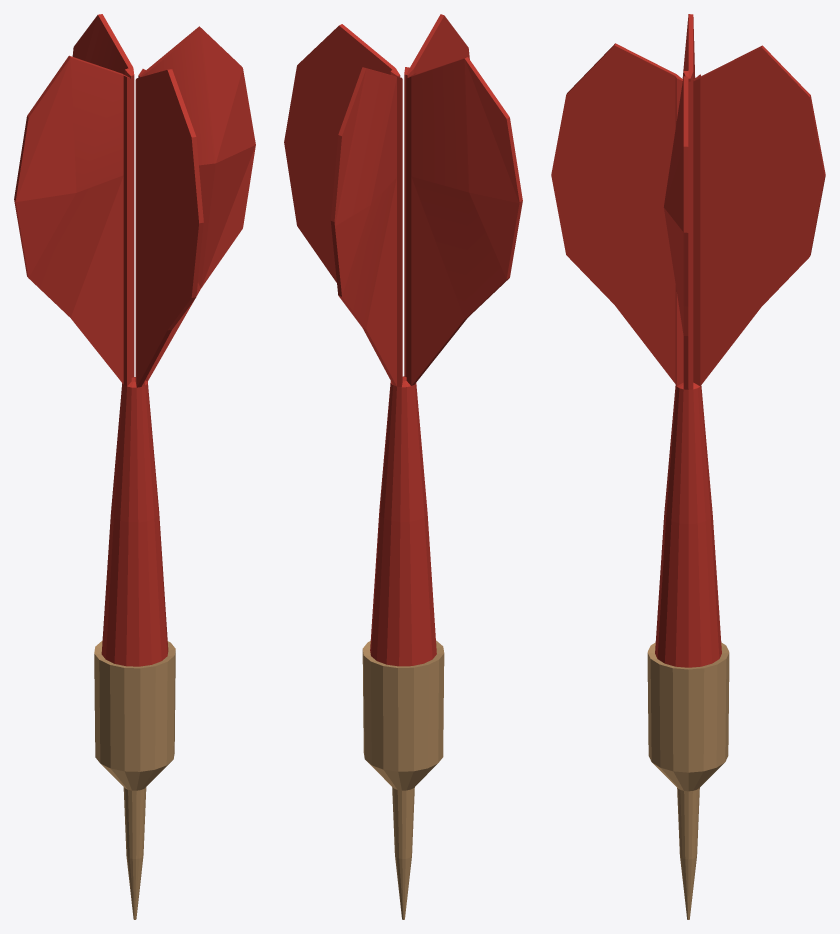
Rendered from FlechetteRouge.fbx.
3 renders of one model, left to right at view 1: azimuth 30°, elevation 25°; view 2: azimuth 150°, elevation 25°; view 3: azimuth 270°, elevation 25°, orthographic.
Visible parts, largest first — view 1: FlechetteRouge; view 2: FlechetteRouge; view 3: FlechetteRouge.
Boxes of the visible parts, x1,y1,x2,y2 form: FlechetteRouge: (14,14,255,919); FlechetteRouge: (284,14,522,919); FlechetteRouge: (551,14,825,919).
Size of the model in its own units: 3.76 by 13.21 by 3.76.
